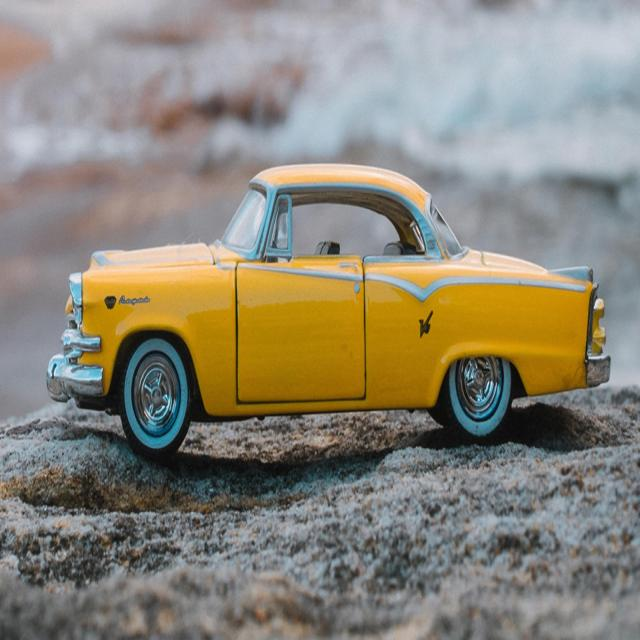Car: (46, 162, 611, 462)
